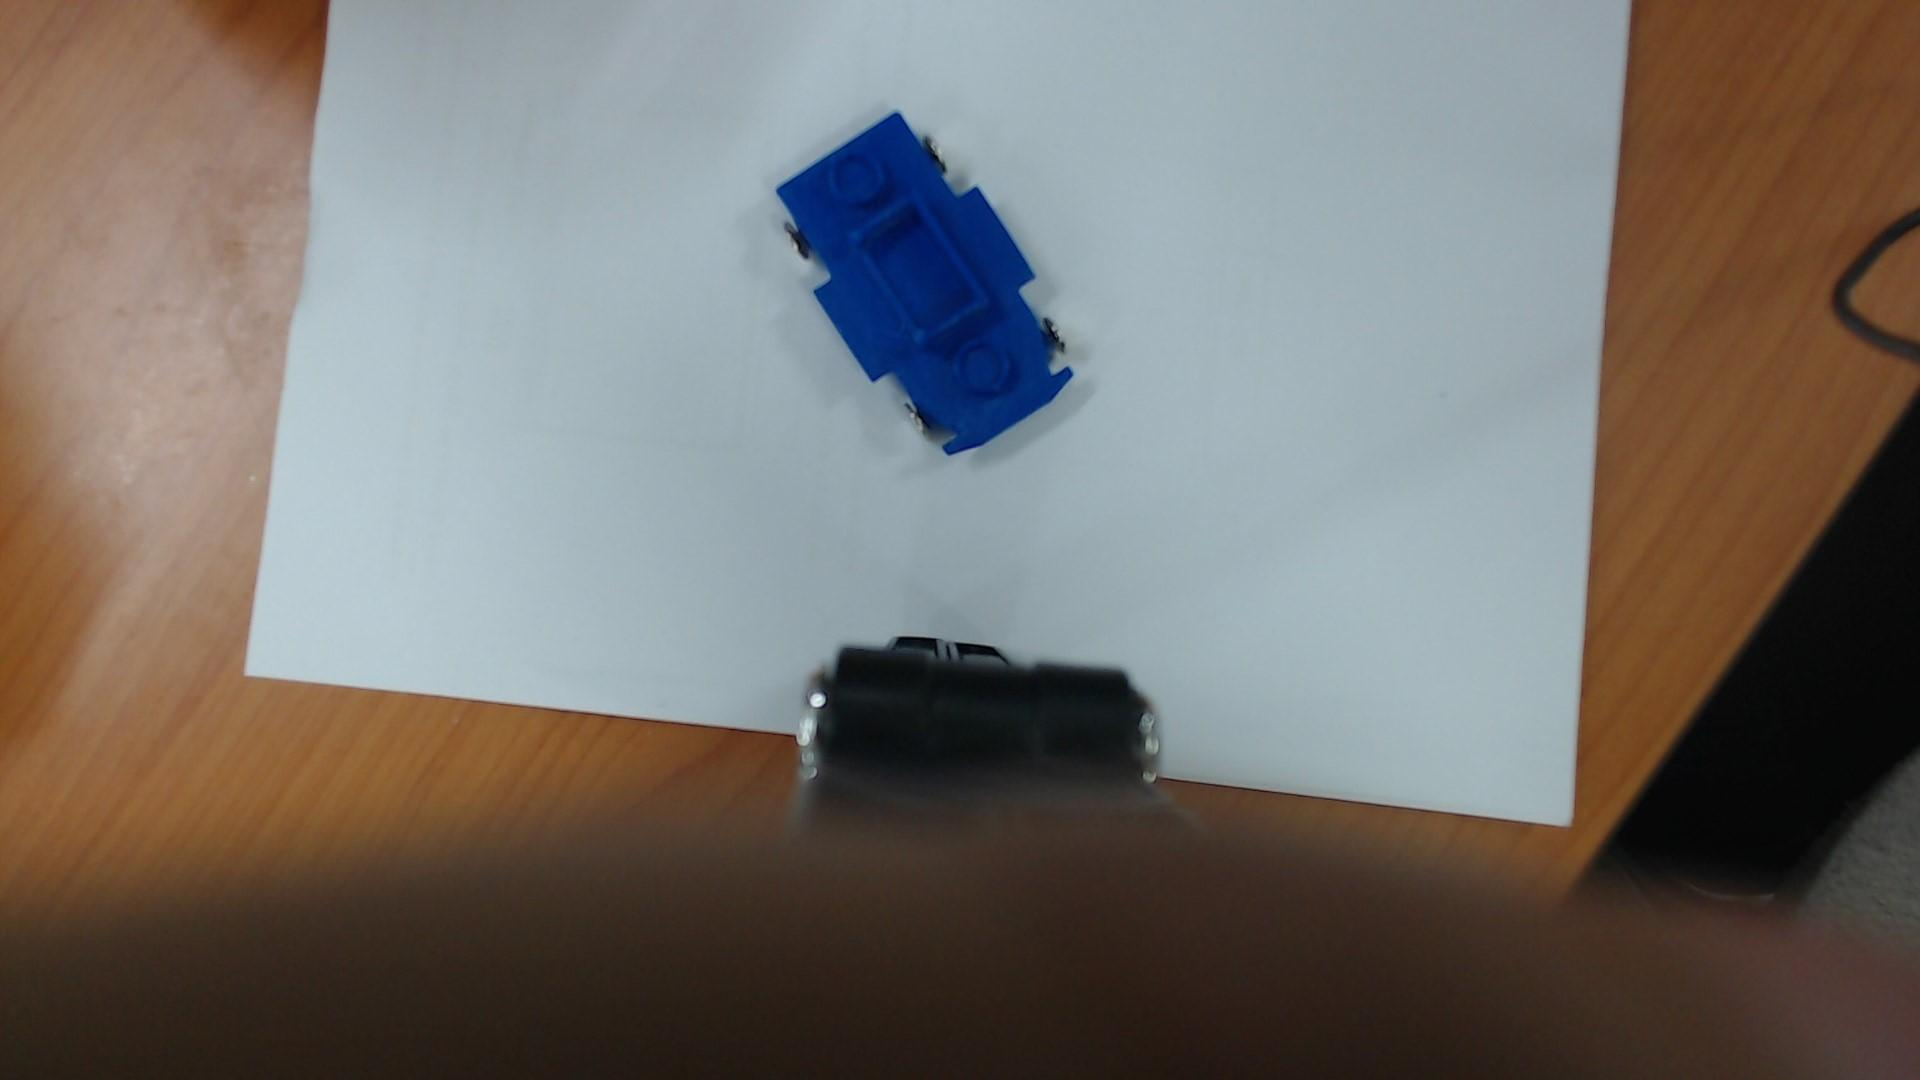lower_ng: (843, 182, 1014, 363)
